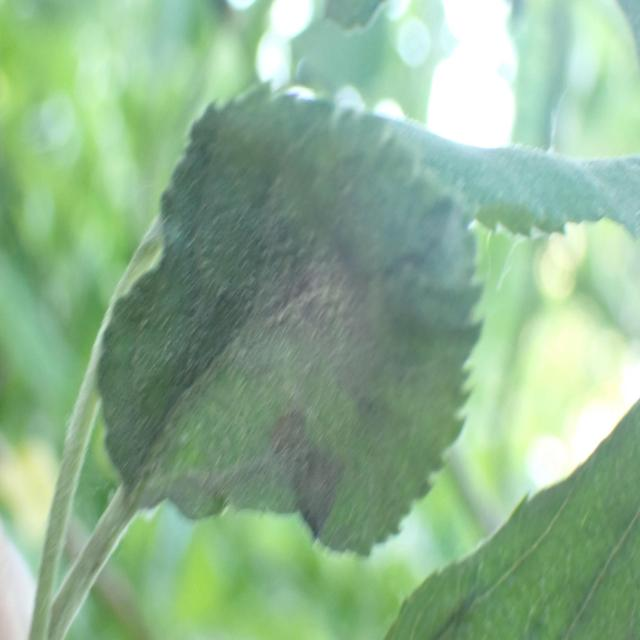Powdery_mildew: (104, 79, 640, 554)
